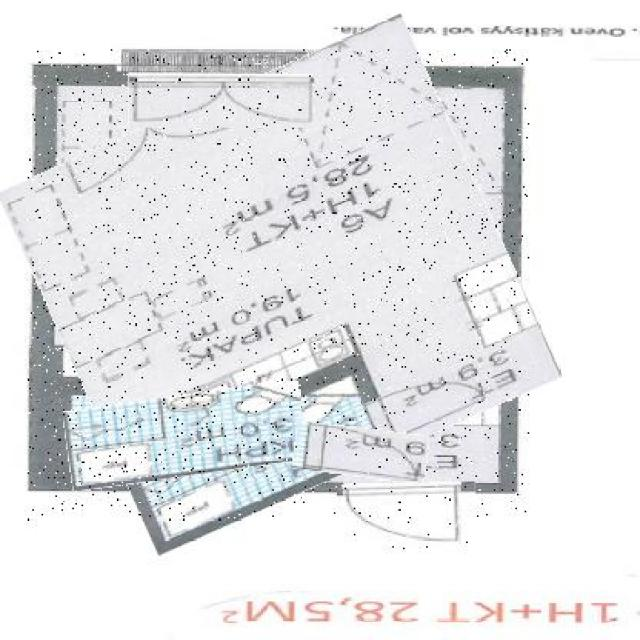door: (128, 74, 314, 128), (338, 483, 477, 549), (294, 423, 429, 480)
zone: (28, 49, 530, 520), (66, 389, 306, 485)
